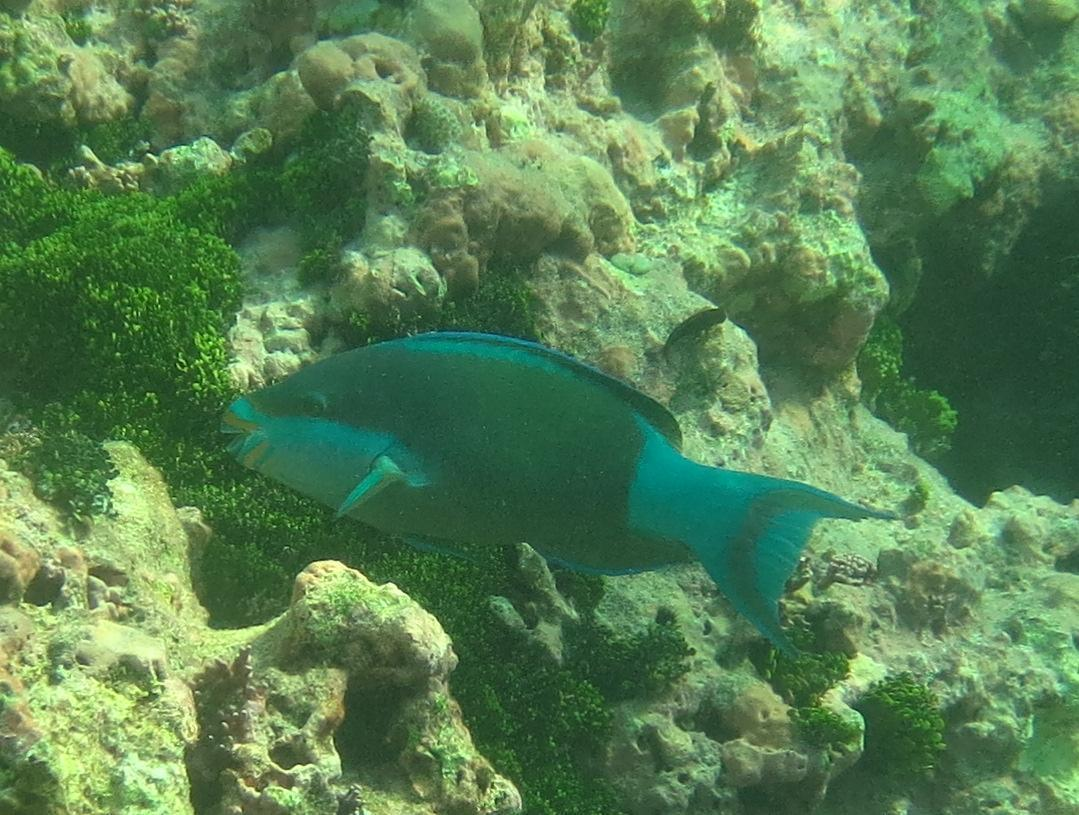Scarus ghobban: (190, 286, 909, 634)
